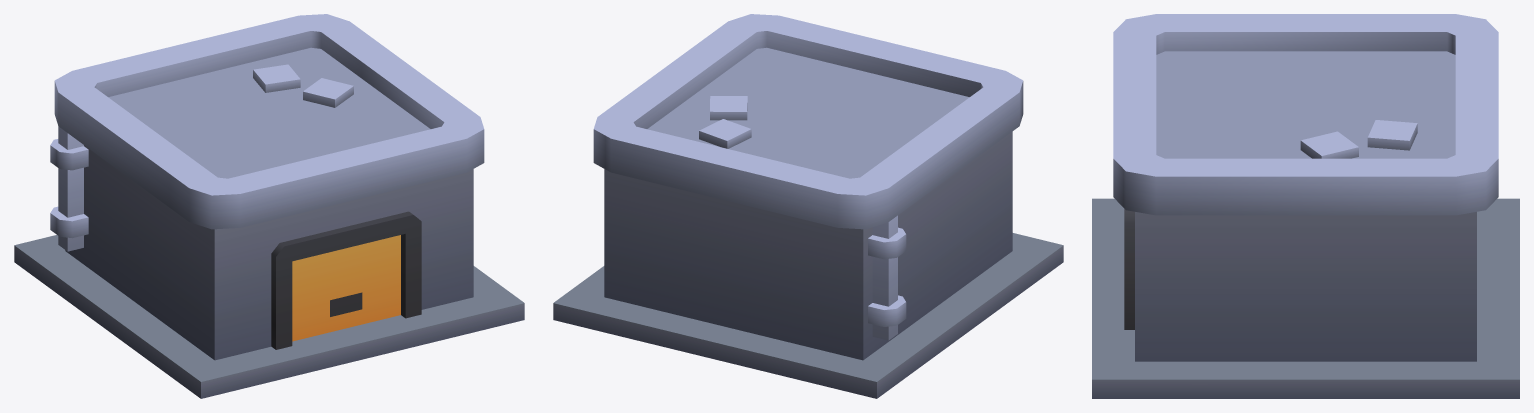
Rendered from building-garage.glb.
3 renders of one model, left to right at view 1: azimuth 30°, elevation 25°; view 2: azimuth 150°, elevation 25°; view 3: azimuth 270°, elevation 25°, orthographic. The views are drawn at different scales.
Visible parts, largest first — view 1: building-garage; view 2: building-garage; view 3: building-garage.
Boxes of the visible parts, <box> form: building-garage: <box>14,14,524,398</box>; building-garage: <box>553,14,1063,398</box>; building-garage: <box>1092,14,1519,398</box>.
Size of the model in its own units: 1 by 0.55 by 1.
Materials: 1 (1 with a texture image).
